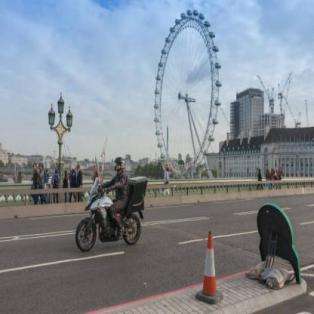Motocicleta: (76, 186, 143, 258)
